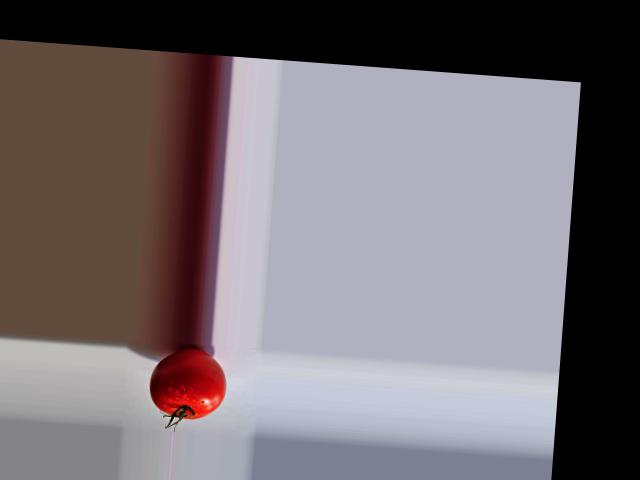tomato: (148, 344, 229, 420)
